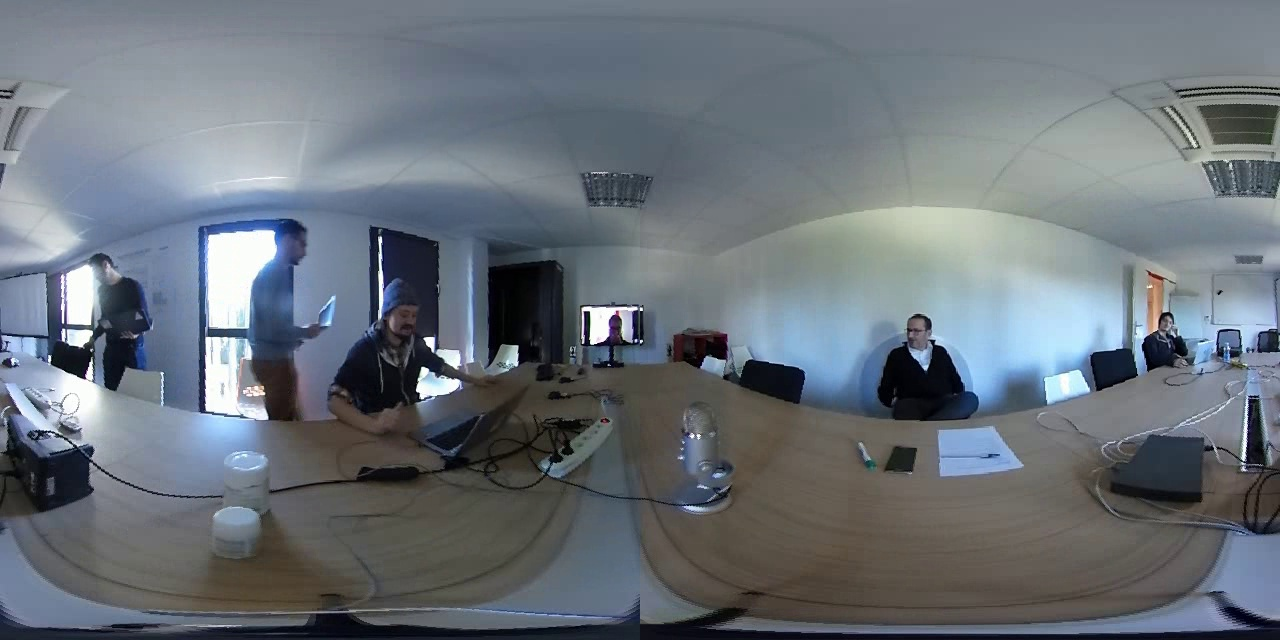person: (244, 201, 319, 406), (346, 262, 446, 406), (879, 306, 979, 419), (77, 249, 149, 362), (1144, 309, 1189, 368), (585, 307, 643, 349)
